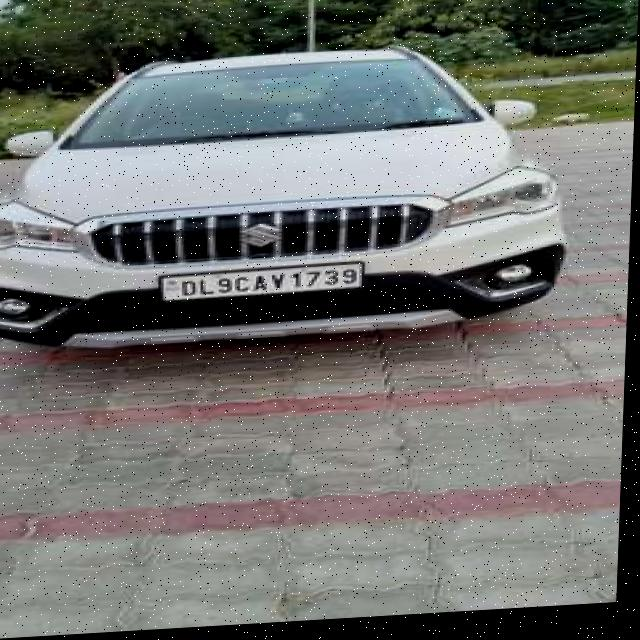plate: (158, 266, 366, 304)
